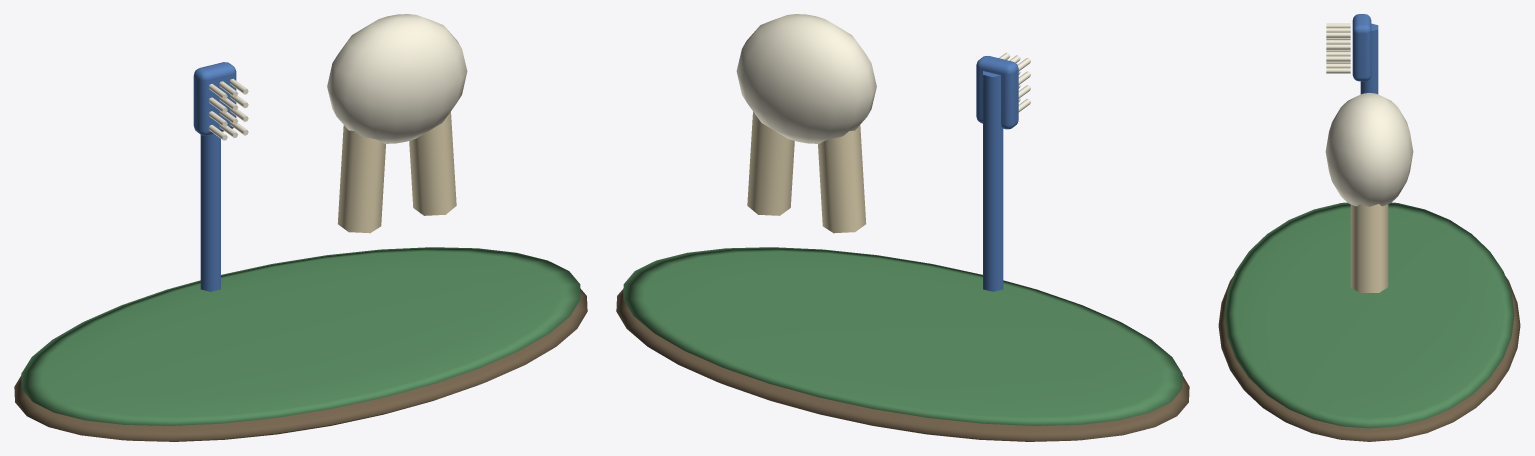
Rendered from tooth-brushing.glb.
3 views of the same model, side by side, from view 1: azimuth 30°, elevation 25°; view 2: azimuth 150°, elevation 25°; view 3: azimuth 270°, elevation 25° (orthographic). The views are drawn at different scales.
Visible parts, largest first — view 1: tooth-brushing_surface_01, tooth-brushing_surface_03, tooth-brushing_surface_00, tooth-brushing_surface_04, tooth-brushing_surface_02; view 2: tooth-brushing_surface_01, tooth-brushing_surface_03, tooth-brushing_surface_00, tooth-brushing_surface_04, tooth-brushing_surface_02; view 3: tooth-brushing_surface_01, tooth-brushing_surface_03, tooth-brushing_surface_00, tooth-brushing_surface_04, tooth-brushing_surface_02.
Boxes of the visible parts, x1=… form: tooth-brushing_surface_01: x1=21, y1=247, x2=580, y2=425; tooth-brushing_surface_03: x1=208, y1=14, x2=467, y2=143; tooth-brushing_surface_00: x1=14, y1=288, x2=587, y2=441; tooth-brushing_surface_04: x1=337, y1=111, x2=456, y2=233; tooth-brushing_surface_02: x1=193, y1=62, x2=236, y2=291; tooth-brushing_surface_01: x1=623, y1=247, x2=1182, y2=425; tooth-brushing_surface_03: x1=736, y1=14, x2=1030, y2=143; tooth-brushing_surface_00: x1=616, y1=288, x2=1189, y2=441; tooth-brushing_surface_04: x1=747, y1=111, x2=866, y2=233; tooth-brushing_surface_02: x1=976, y1=56, x2=1018, y2=291; tooth-brushing_surface_01: x1=1224, y1=202, x2=1514, y2=428; tooth-brushing_surface_03: x1=1325, y1=23, x2=1413, y2=206; tooth-brushing_surface_00: x1=1218, y1=276, x2=1520, y2=441; tooth-brushing_surface_04: x1=1350, y1=204, x2=1388, y2=292; tooth-brushing_surface_02: x1=1352, y1=14, x2=1378, y2=94.
Size of the model in its own units: 4.56 by 2.57 by 2.5.
